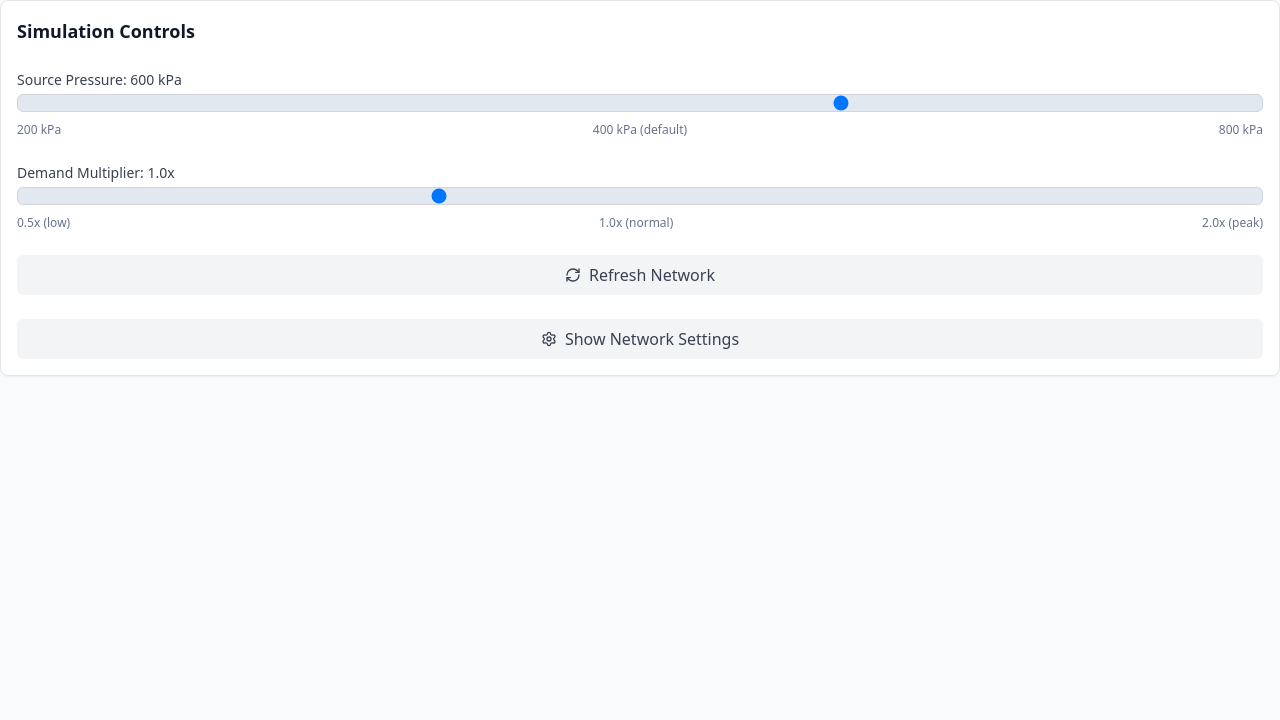
ControlPanel › shows advanced network settings when toggle is clicked
Check: the text "Network Generation" is not shown
Note: Click to show
Click the button "Show Network Settings" at (640, 339), box 17,319 -> 1263,359
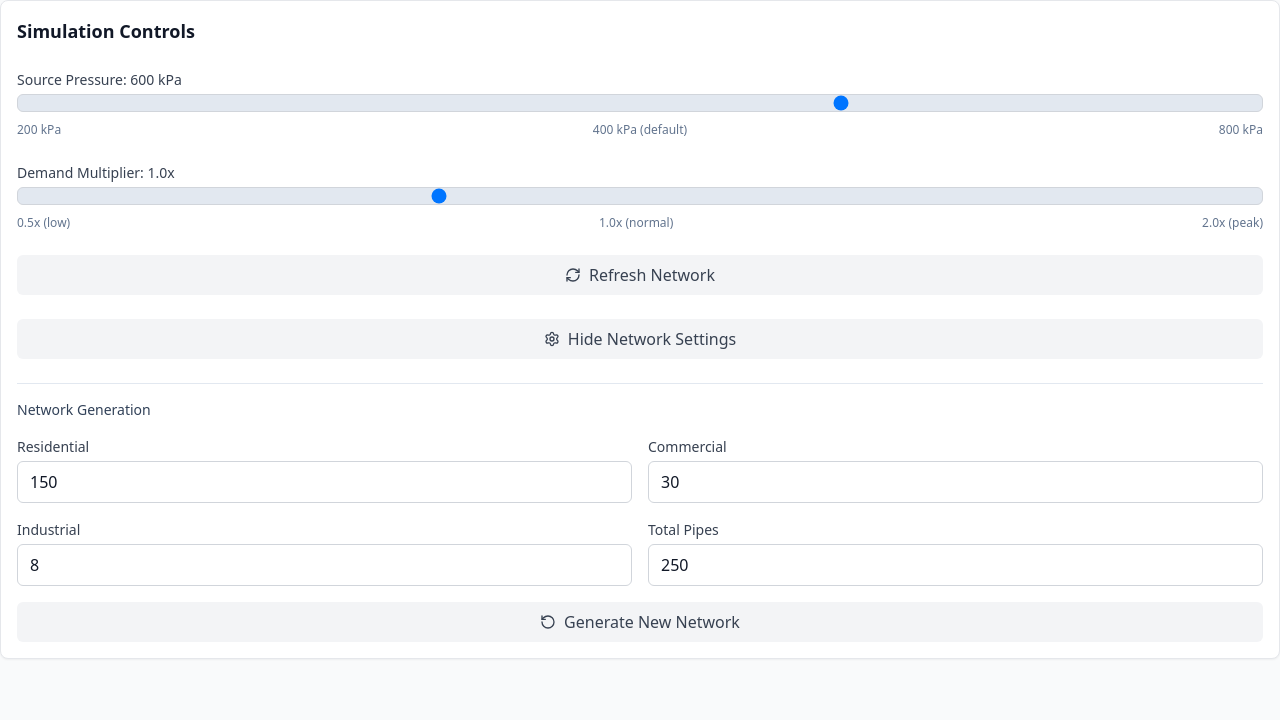
Check: the heading "Network Generation" is shown, box 17,400 -> 151,419
